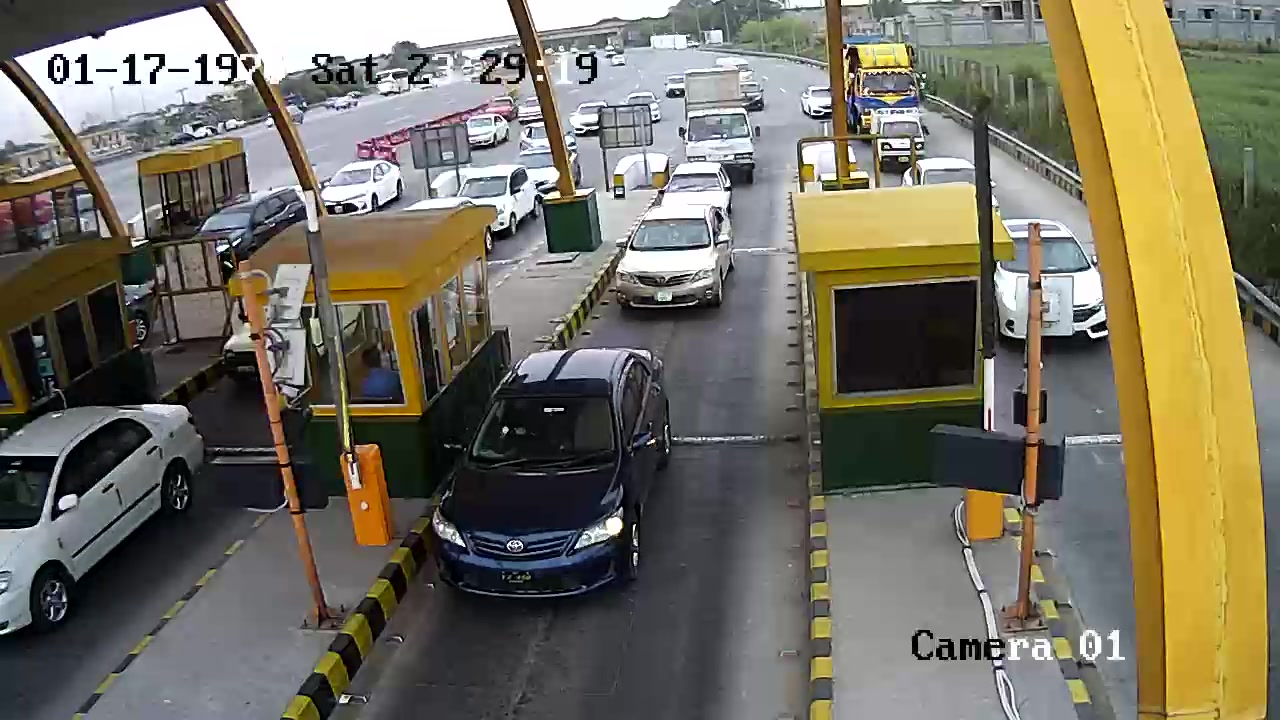F1: (440, 336, 671, 615), (615, 204, 745, 327)
